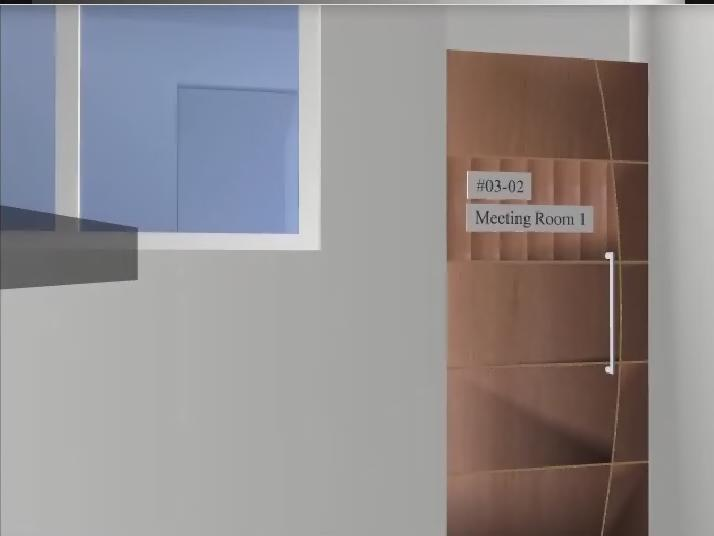door: (448, 51, 649, 536)
